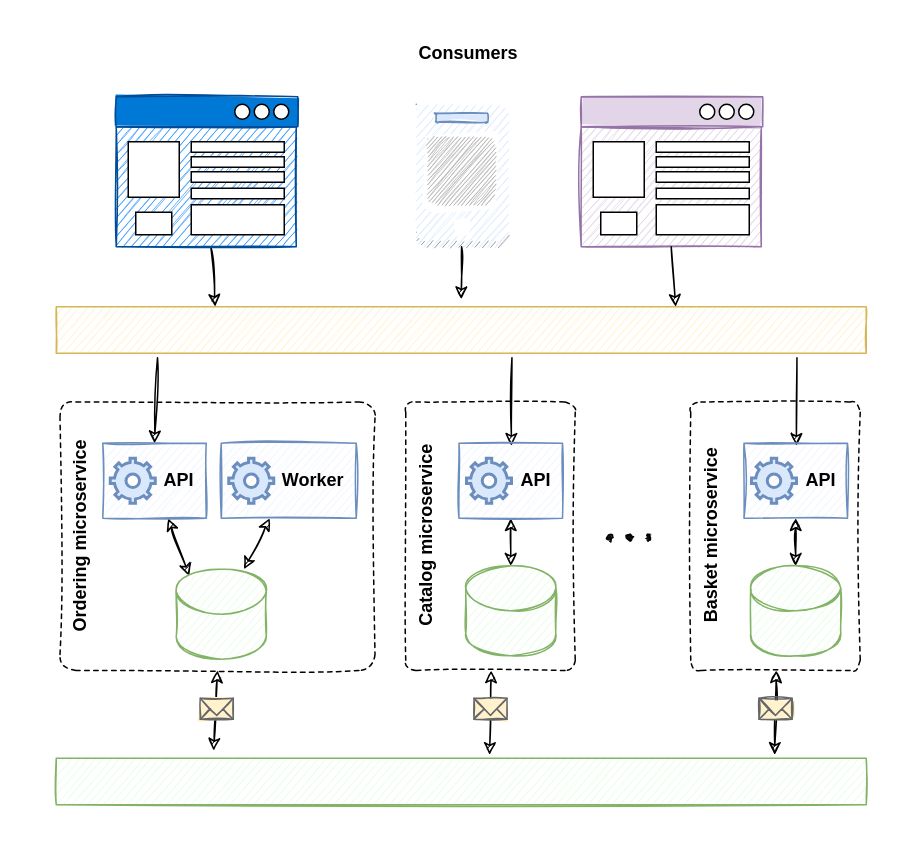
Some shapes in this 921 by 858 pixel diagram are drawn without their labels. The centre of each missing label's shape, as x and y in pixels:
API Gateway: (460,329)
Event bus (pub/sub): (460,781)
